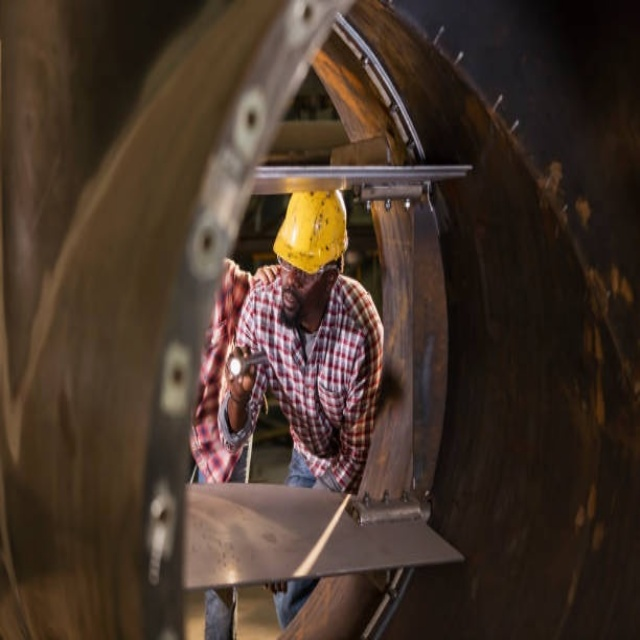Gafas: (277, 256, 335, 289)
Sin_guantes: (224, 347, 258, 405)
Sin_mascara: (280, 289, 300, 320)
